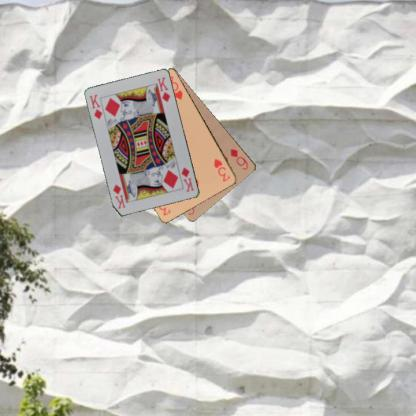3h: (212, 156, 232, 183)
6d: (227, 146, 250, 171)
Kd: (86, 92, 104, 120), (179, 165, 196, 193)
